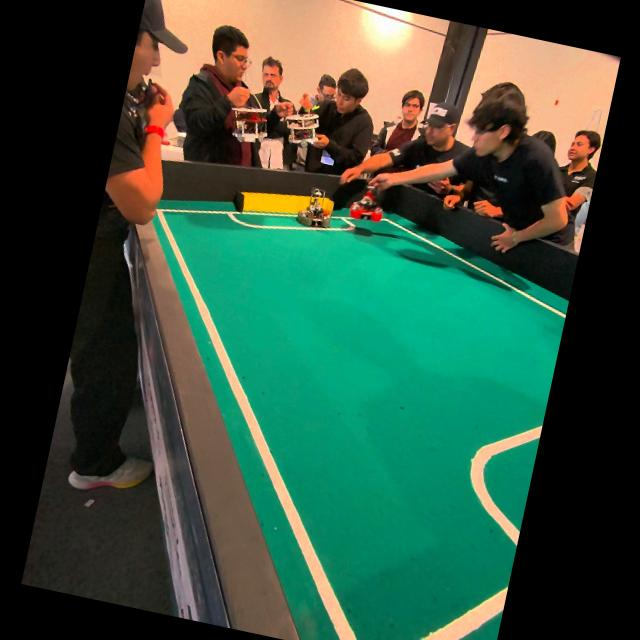goal: (230, 191, 305, 213)
robot: (295, 187, 330, 228), (348, 186, 381, 221)
